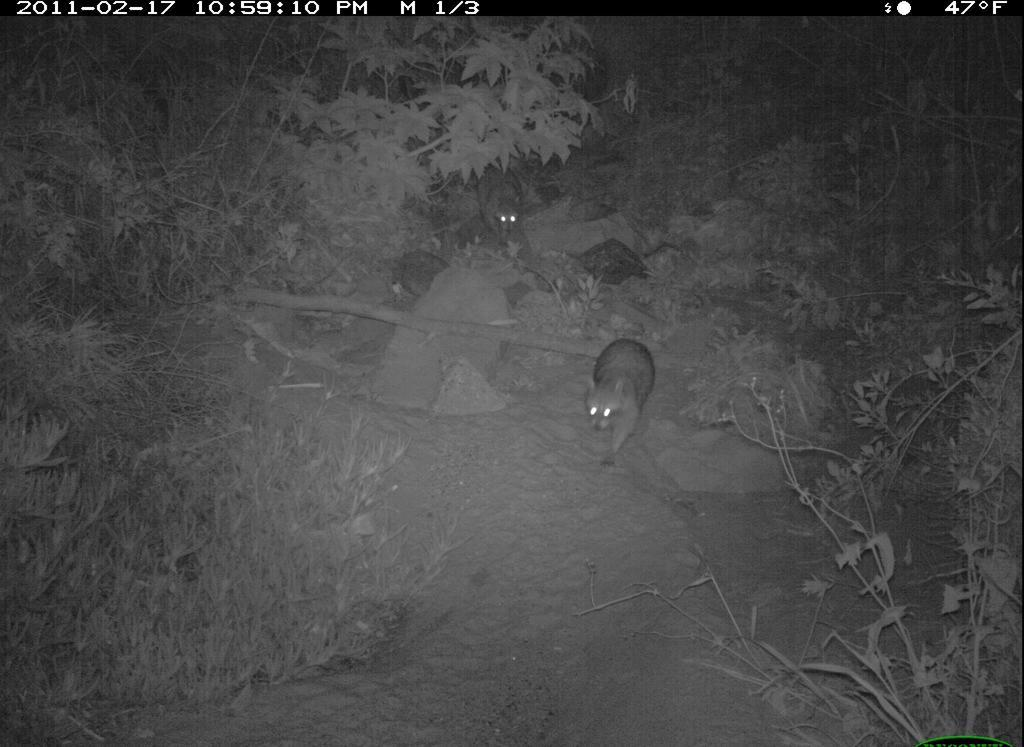raccoon: (577, 324, 666, 481), (455, 159, 539, 246)
